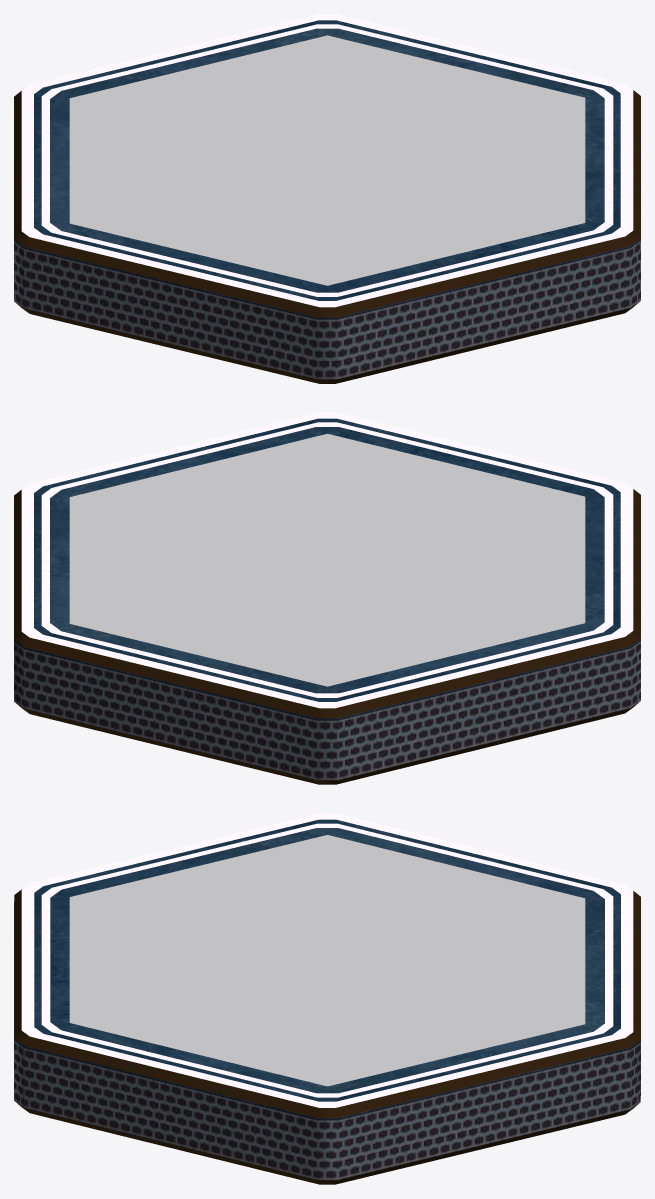
Rendered from entity20378.gltf.
3 views of the same model, one above another, from view 1: azimuth 30°, elevation 25°; view 2: azimuth 150°, elevation 25°; view 3: azimuth 270°, elevation 25° (orthographic).
Visible parts, largest first — view 1: node_Hex_Deco (1); view 2: node_Hex_Deco (1); view 3: node_Hex_Deco (1).
Boxes of the visible parts, box(x1,y1,x2,y2) form: node_Hex_Deco (1): box(14, 14, 640, 383); node_Hex_Deco (1): box(14, 412, 640, 784); node_Hex_Deco (1): box(14, 813, 640, 1184).
Size of the model in its own units: 1.16 by 0.1405 by 1.02.
3 materials, 1 textured.
